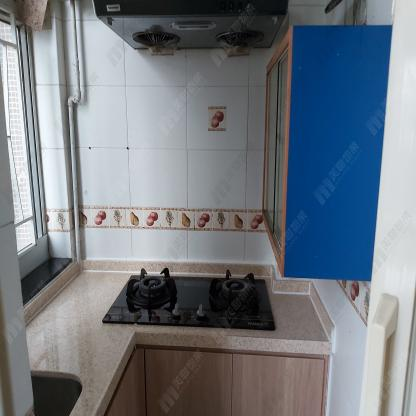Cupboard: (107, 347, 328, 416)
Exhaust Hood: (95, 2, 289, 58)
Sink: (33, 371, 84, 416)
Stove: (100, 268, 275, 329)
